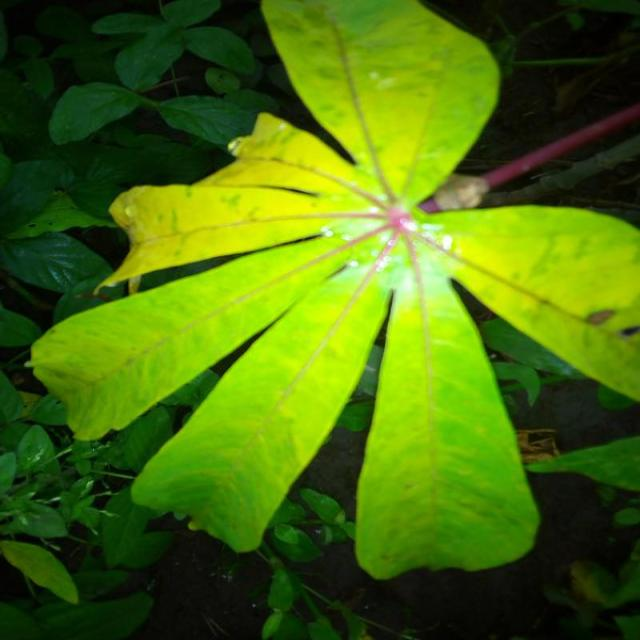cassava leaf: (25, 0, 638, 579)
